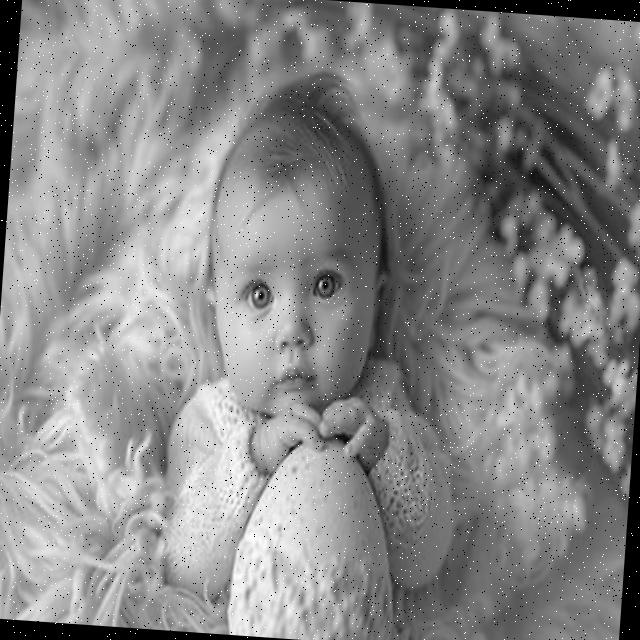Neutral: (201, 181, 382, 426)
